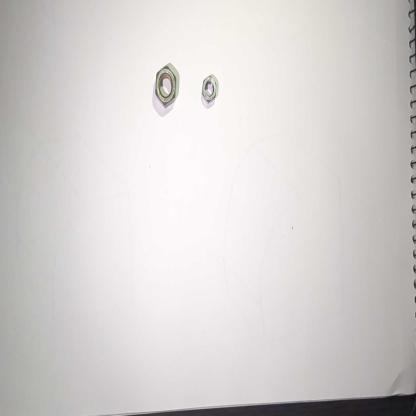NUTS: (154, 64, 178, 108), (201, 75, 220, 106)
